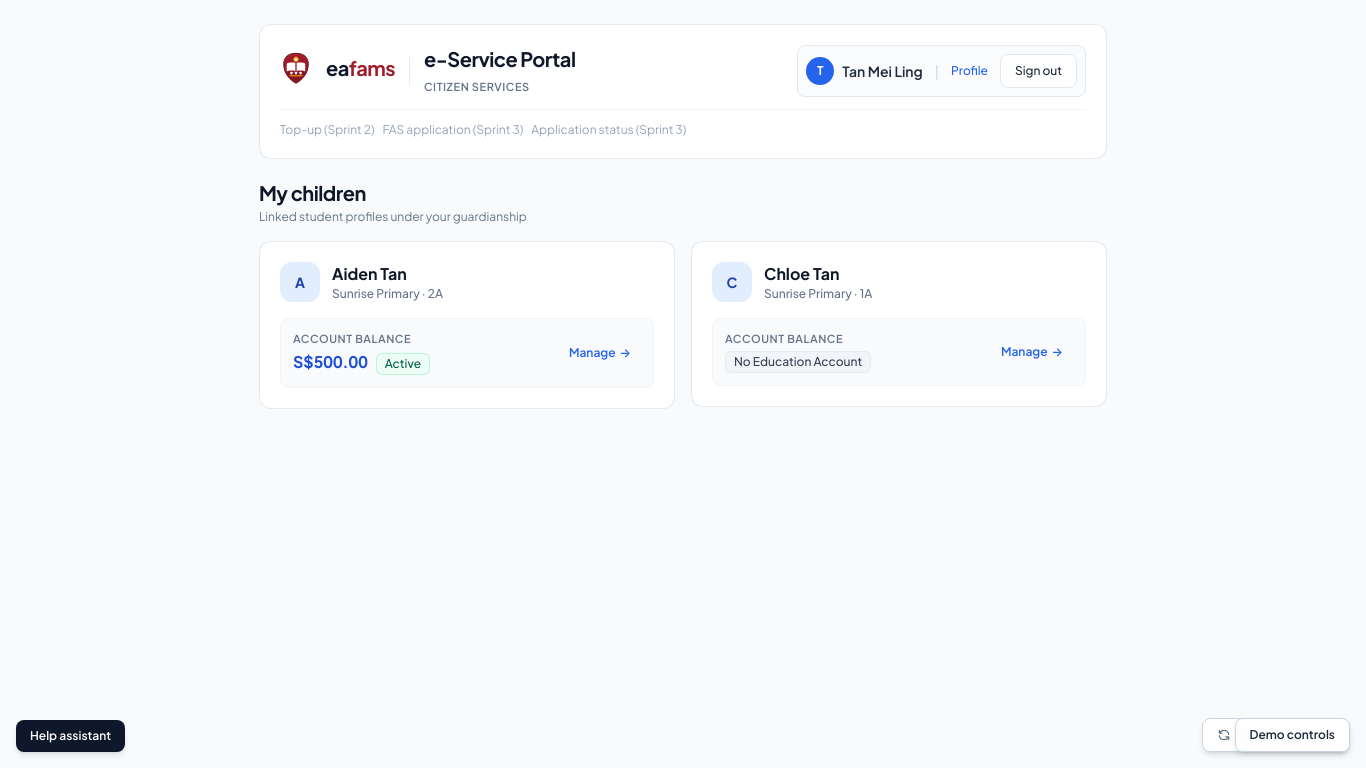
Test case: asks a follow-up, then answers, in one conversation
The width and height of the screenshot is (1366, 768).
Click the button "Help assistant".
click(71, 736)  # box [16,720,125,752]
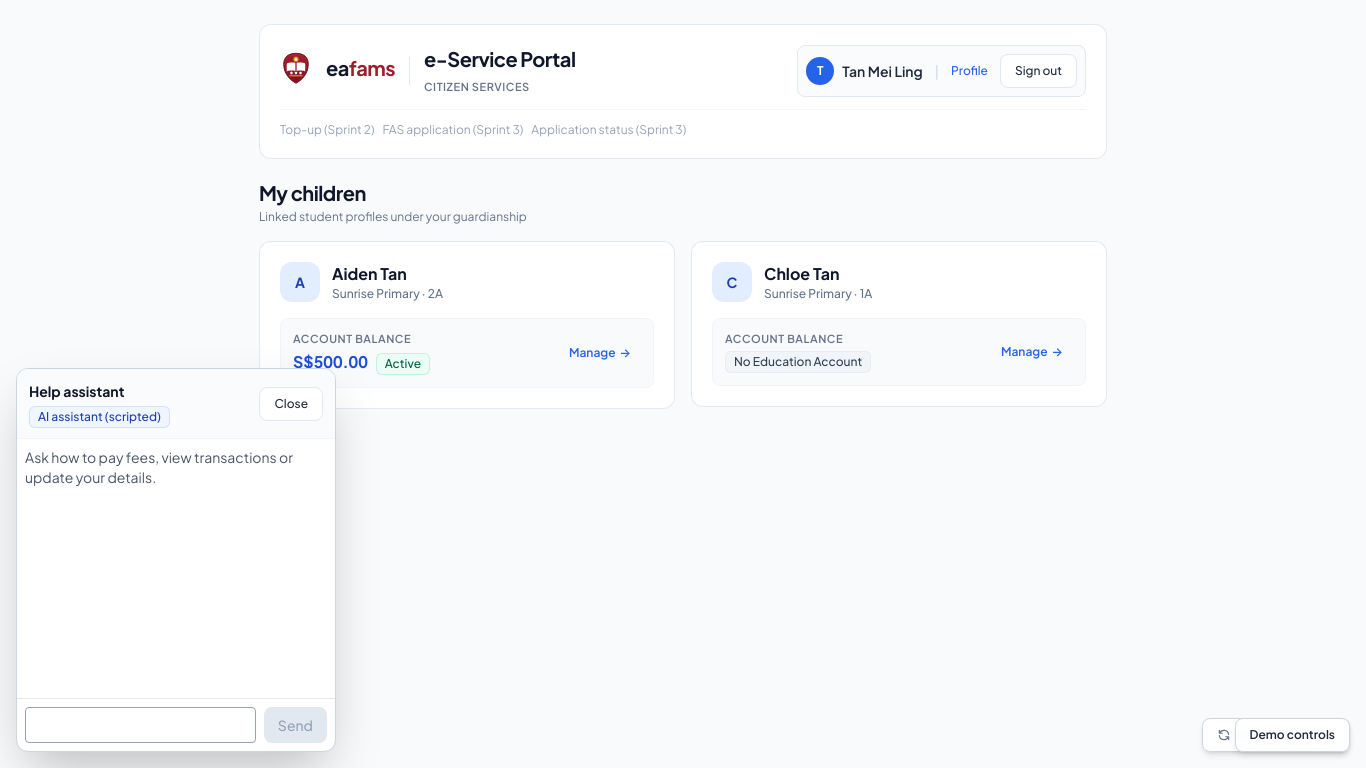
Type "How do I pay my fees?" into the field named "your question".
click(140, 725); type("How do I pay my fees?")  # box [25,707,256,743]
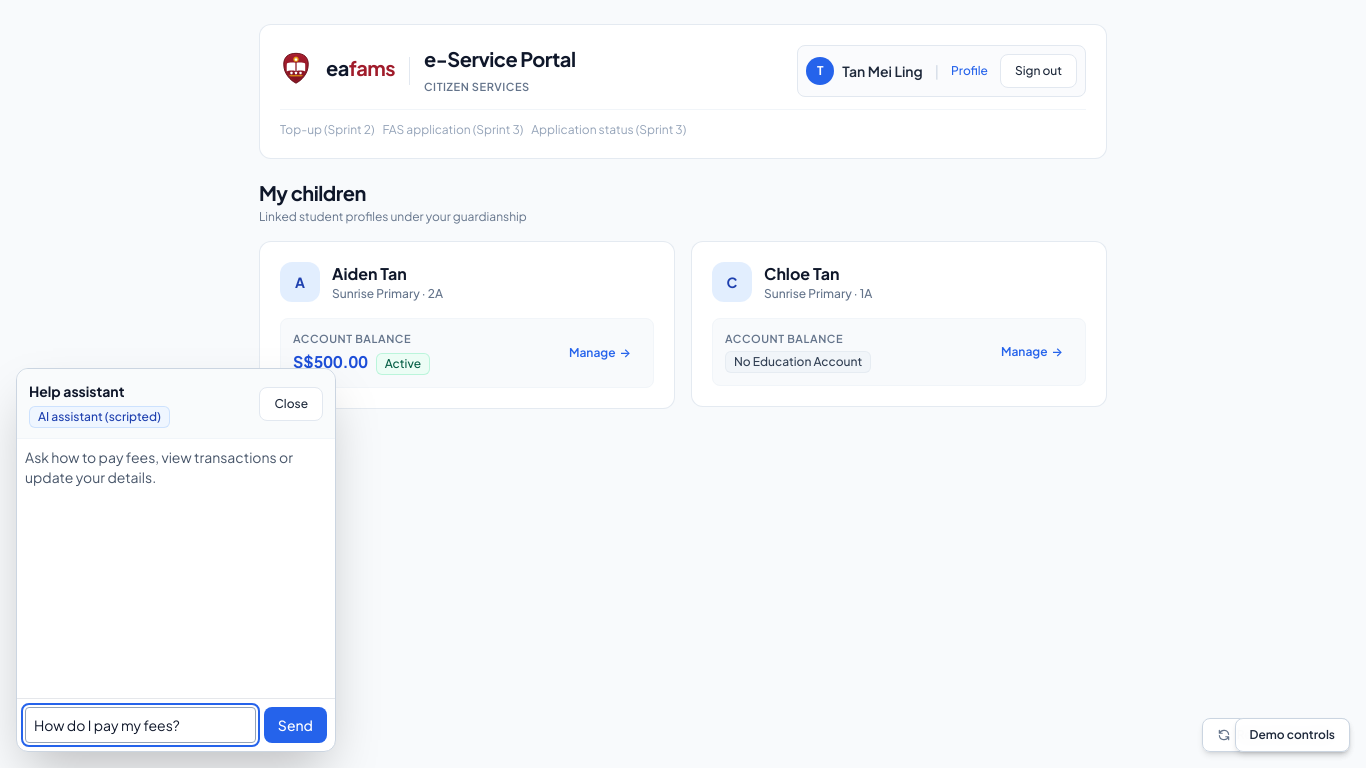
Click the button "Send".
click(295, 725)  # box [264,707,327,743]
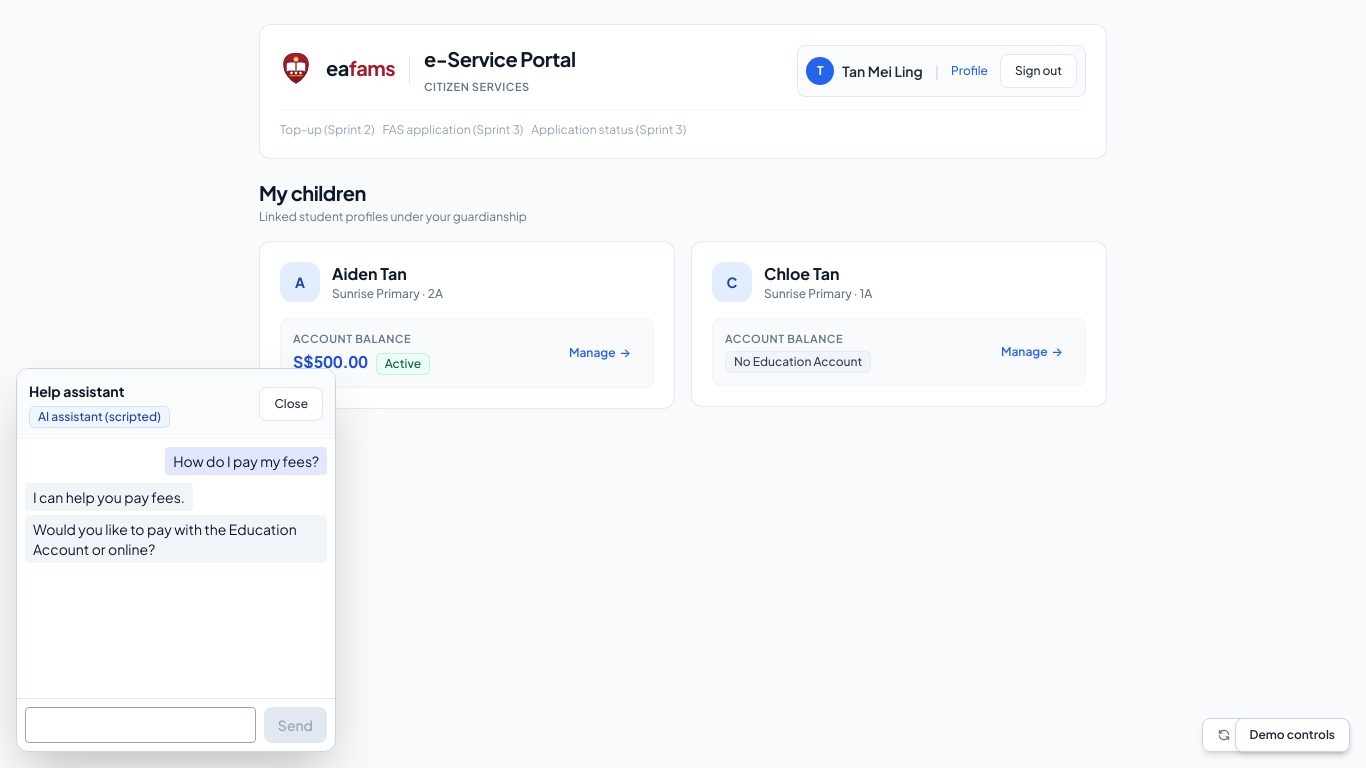
Expected: the text "Would you like to pay with the Education Account or online?" is shown, [25,515,327,563]
Type "online" into the field named "your question".
click(140, 725); type("online")  # box [25,707,256,743]
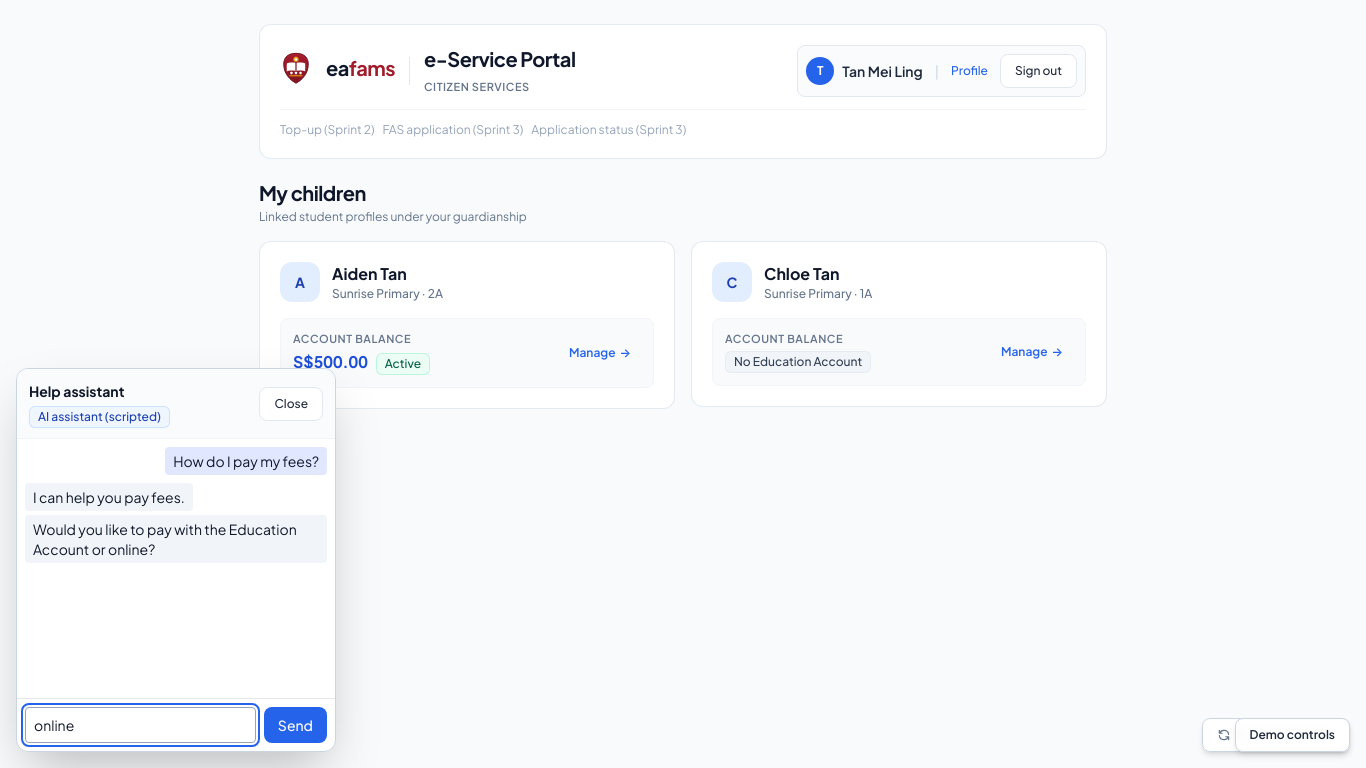
Click the button "Send".
click(295, 725)  # box [264,707,327,743]
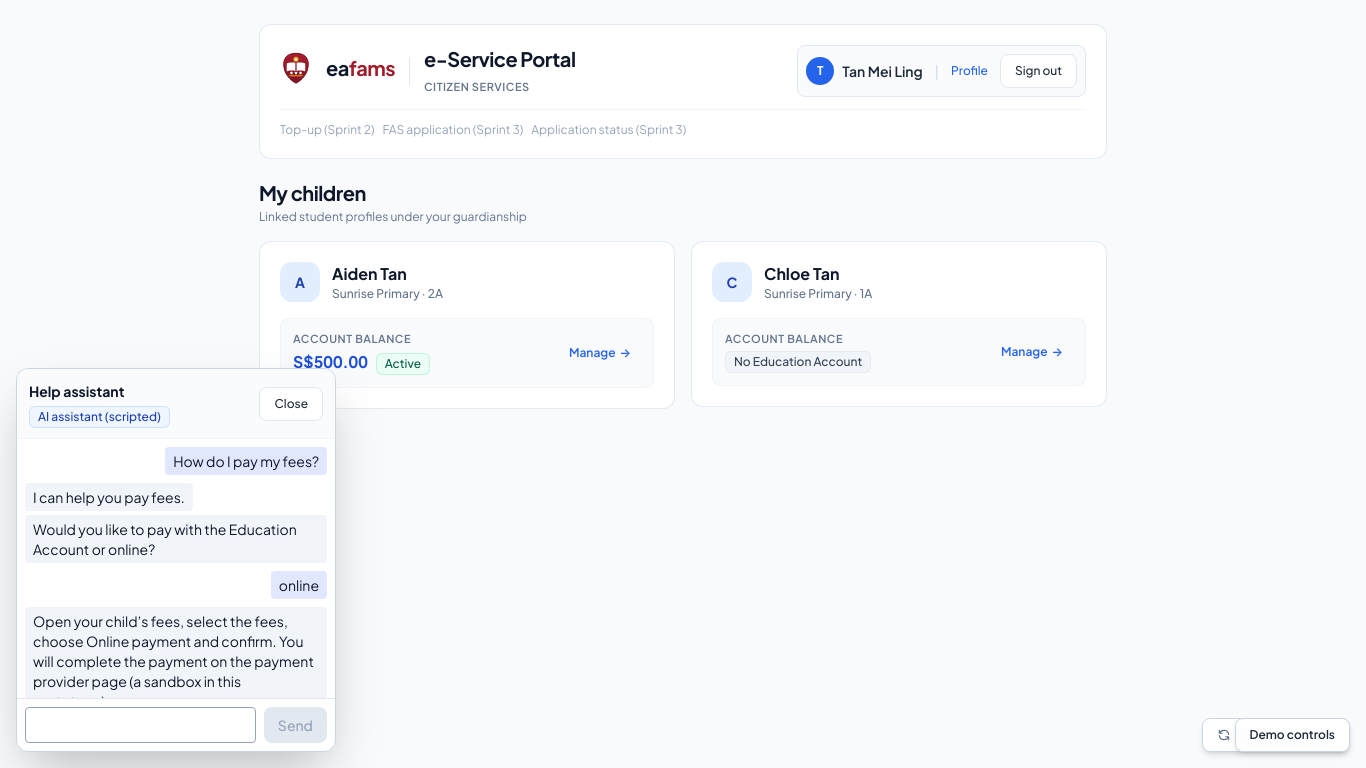
Expected: the text "choose Online payment" is shown, [33,612,314,698]
